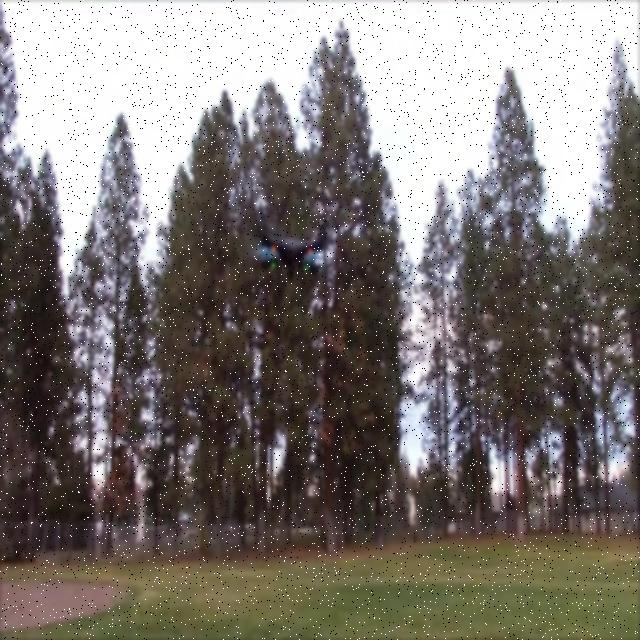UAV: (249, 207, 333, 271)
